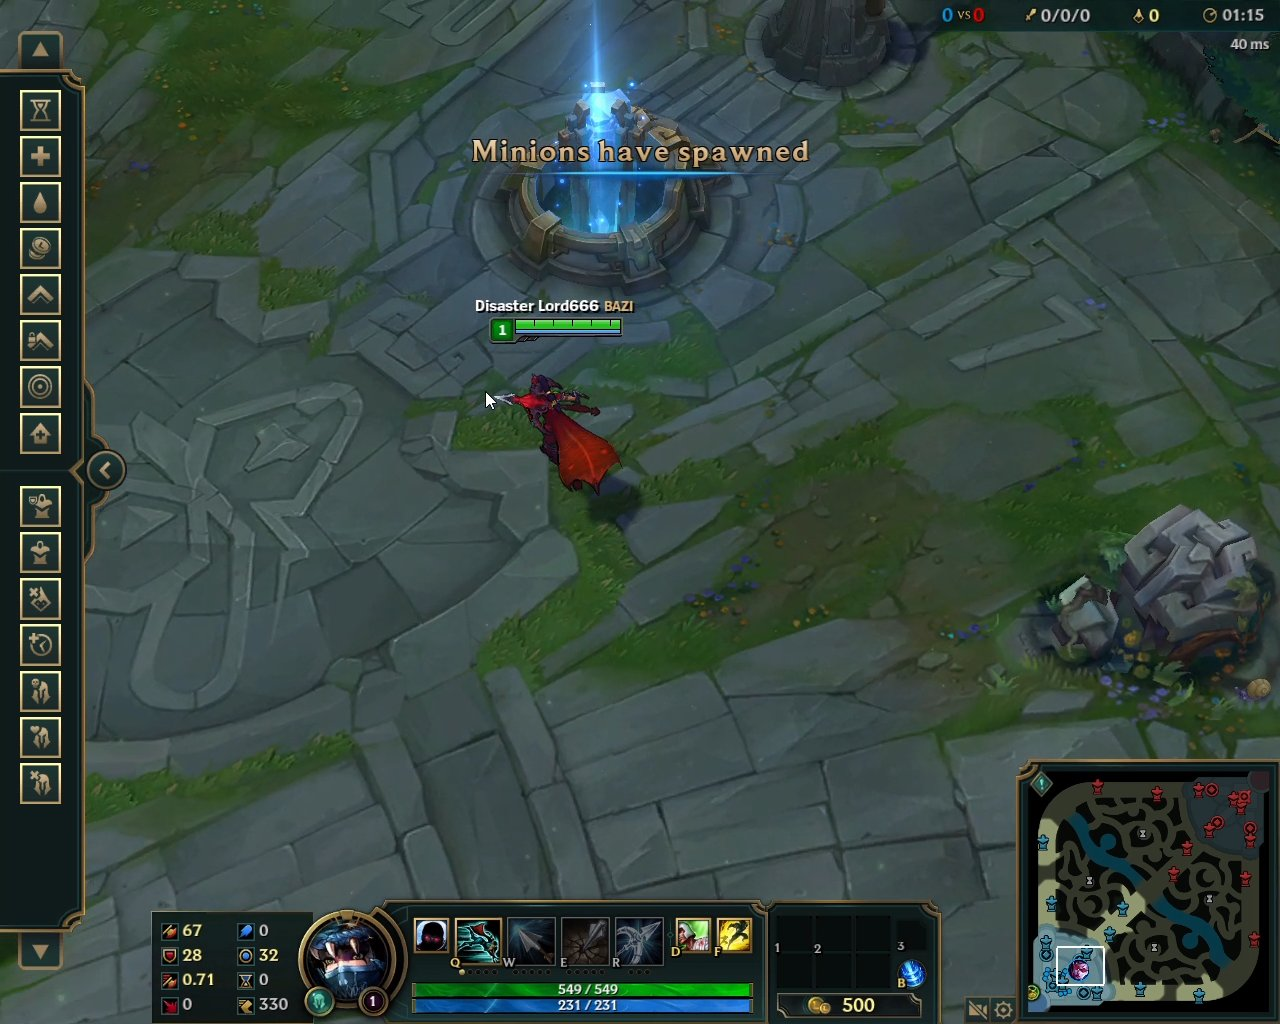Vayne: (486, 366, 627, 506)
